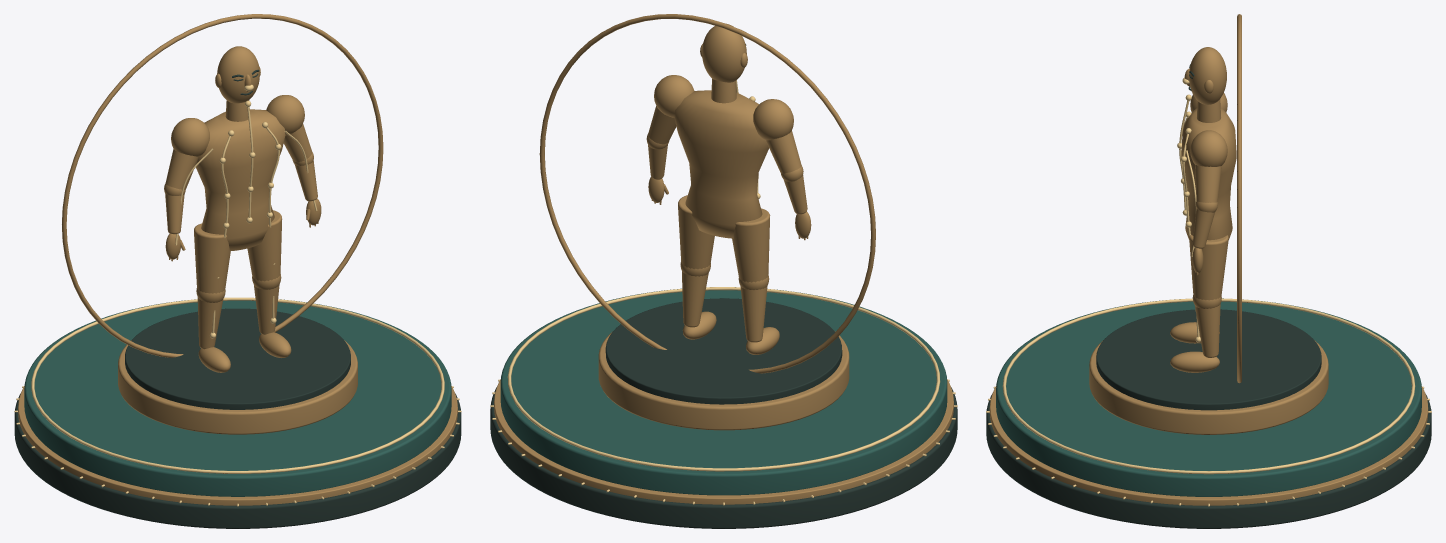
Rendered from acupuncture.glb.
3 renders of one model, left to right at view 1: azimuth 30°, elevation 25°; view 2: azimuth 150°, elevation 25°; view 3: azimuth 270°, elevation 25°, orthographic. The views are drawn at different scales.
Visible parts, largest first — view 1: architecture__深墨玉 · polished jade, architecture__玄色石, artifact_human__旧黄铜, architecture__旧黄铜, architecture__暖金镶线, artifact_human__暖金镶线; view 2: architecture__深墨玉 · polished jade, architecture__玄色石, artifact_human__旧黄铜, architecture__旧黄铜, architecture__暖金镶线; view 3: architecture__深墨玉 · polished jade, architecture__玄色石, architecture__旧黄铜, artifact_human__旧黄铜, architecture__暖金镶线, artifact_human__暖金镶线.
Part boxes in pixels (box(x1,y1,x2,y2)): architecture__深墨玉 · polished jade: box(24, 299, 451, 496); architecture__玄色石: box(14, 308, 461, 528); artifact_human__旧黄铜: box(164, 46, 321, 372); architecture__旧黄铜: box(18, 14, 457, 505); architecture__暖金镶线: box(14, 297, 461, 506); artifact_human__暖金镶线: box(175, 84, 317, 338); architecture__深墨玉 · polished jade: box(500, 287, 947, 495); architecture__玄色石: box(490, 298, 957, 528); artifact_human__旧黄铜: box(646, 23, 811, 354); architecture__旧黄铜: box(494, 14, 953, 504); architecture__暖金镶线: box(490, 287, 957, 505); architecture__深墨玉 · polished jade: box(996, 298, 1421, 496); architecture__玄色石: box(986, 309, 1431, 528); architecture__旧黄铜: box(989, 14, 1428, 505); artifact_human__旧黄铜: box(1170, 47, 1236, 372); architecture__暖金镶线: box(986, 298, 1431, 506); artifact_human__暖金镶线: box(1177, 77, 1200, 342).
Size of the model in its own units: 3.2 by 3.21 by 3.2.
